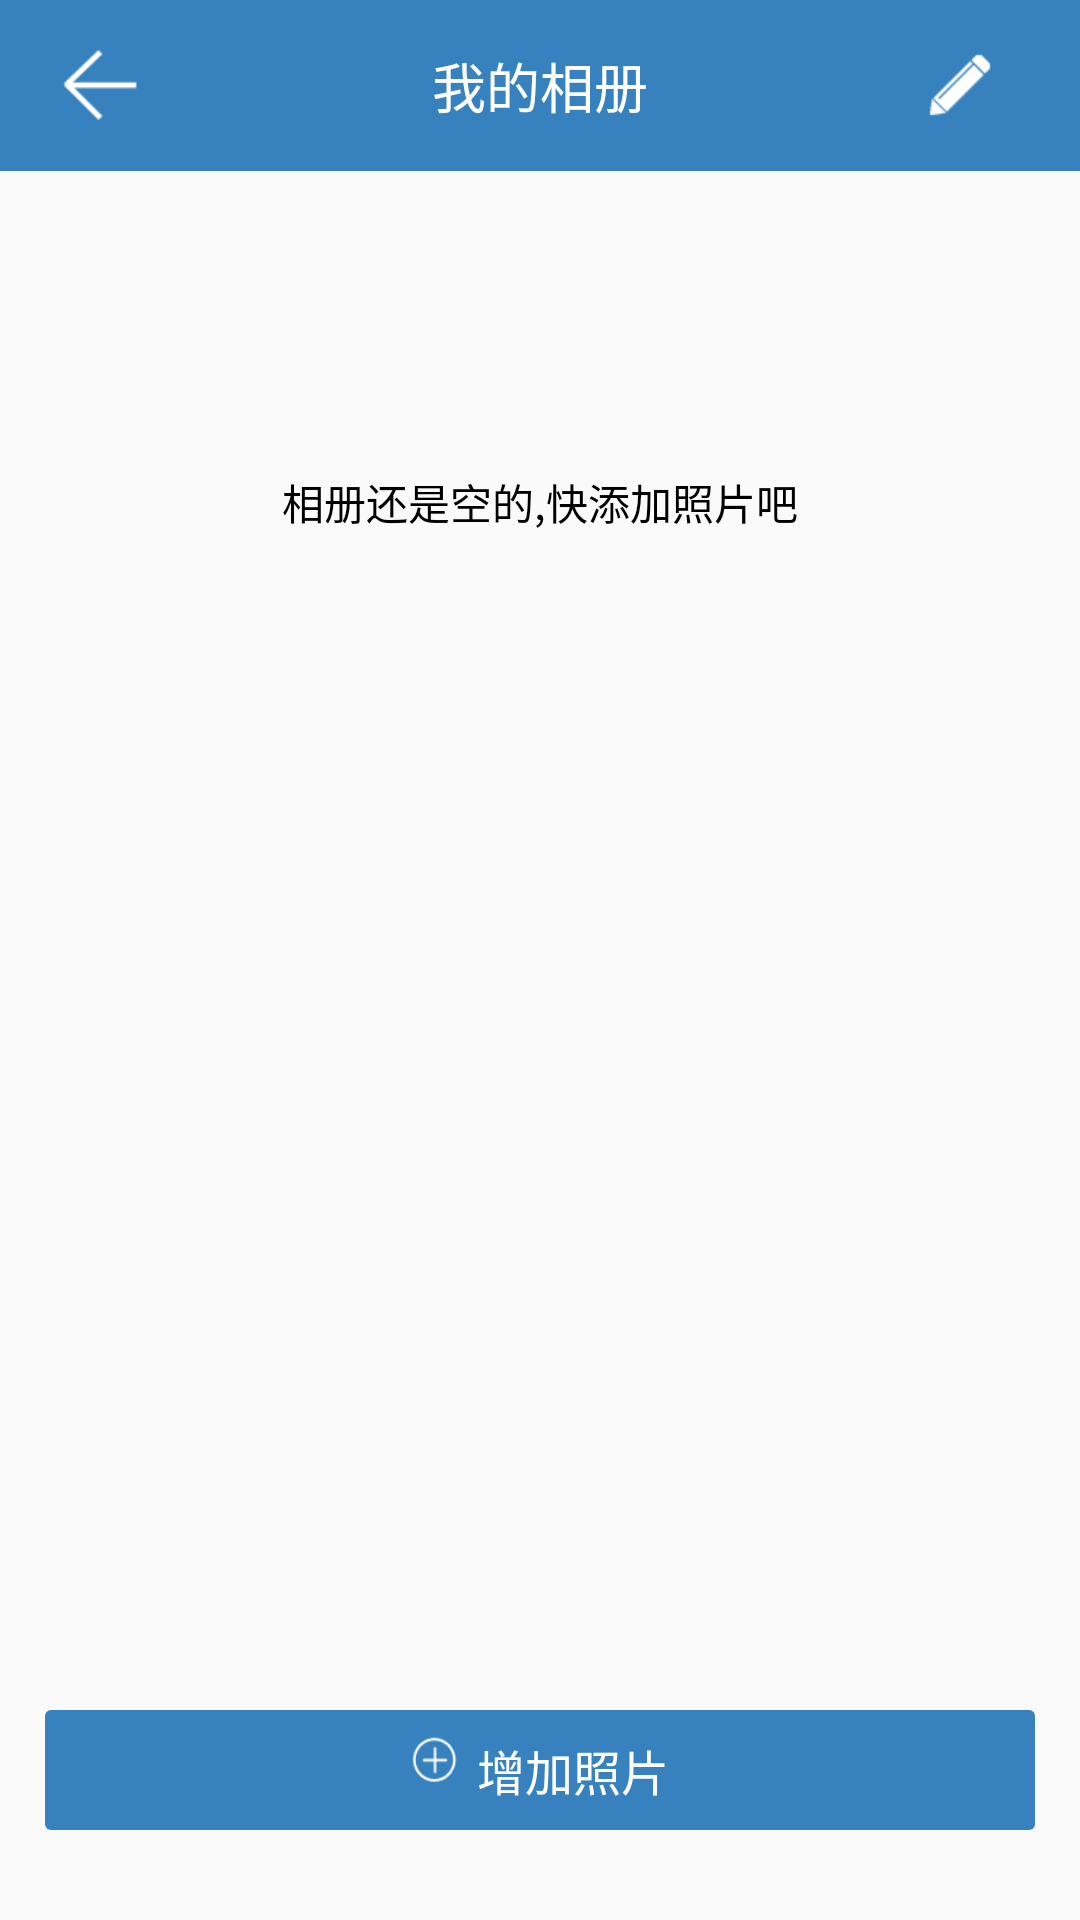

Where icons sit on this 1080×1920 app screen, as (left=x1, top=y1, right=x2, bottom=y2):
back arrow: (left=64, top=50, right=137, bottom=120)
edit: (left=929, top=54, right=991, bottom=116)
